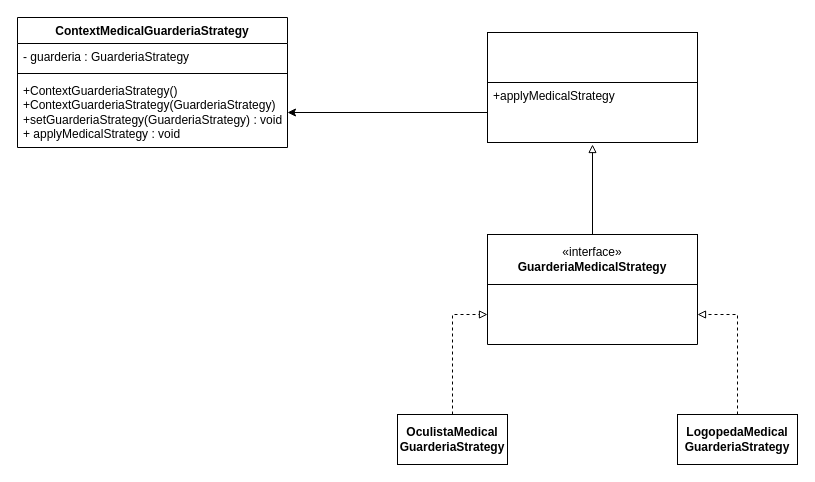
Image size: 815x482. Some labels were removed from this diagram. The shapes that lost their labels are listed below. From the top down, each one's box as (x1, y1, x2, y2) in pixels, then its label:
(486, 32, 698, 82): «interface» MedicalStrategy
(486, 284, 698, 344): + examinarNinyos() : void + enviarFacturas() : void + enviarResultados() : void
